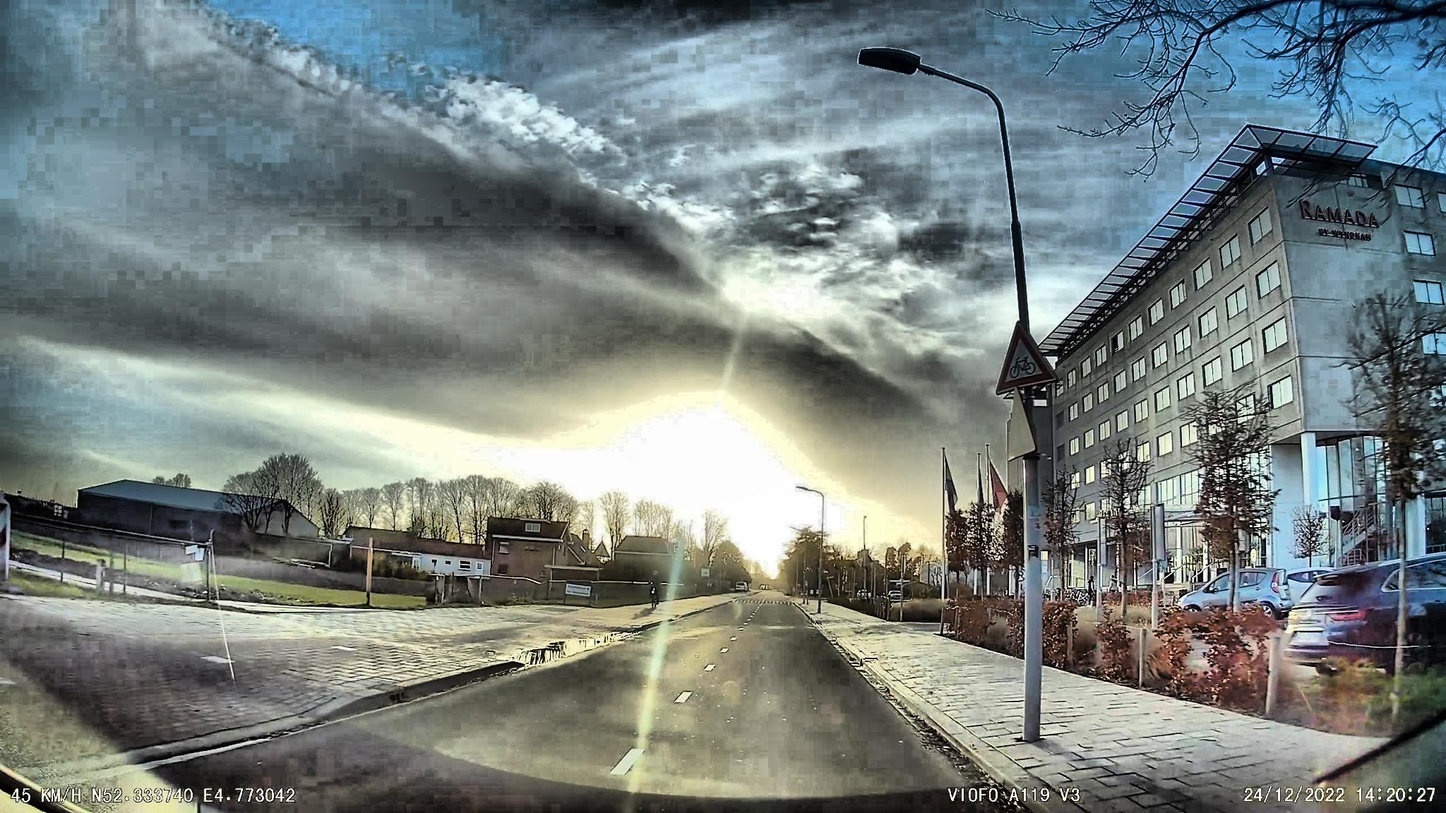Roads: (151, 605, 1029, 813)
